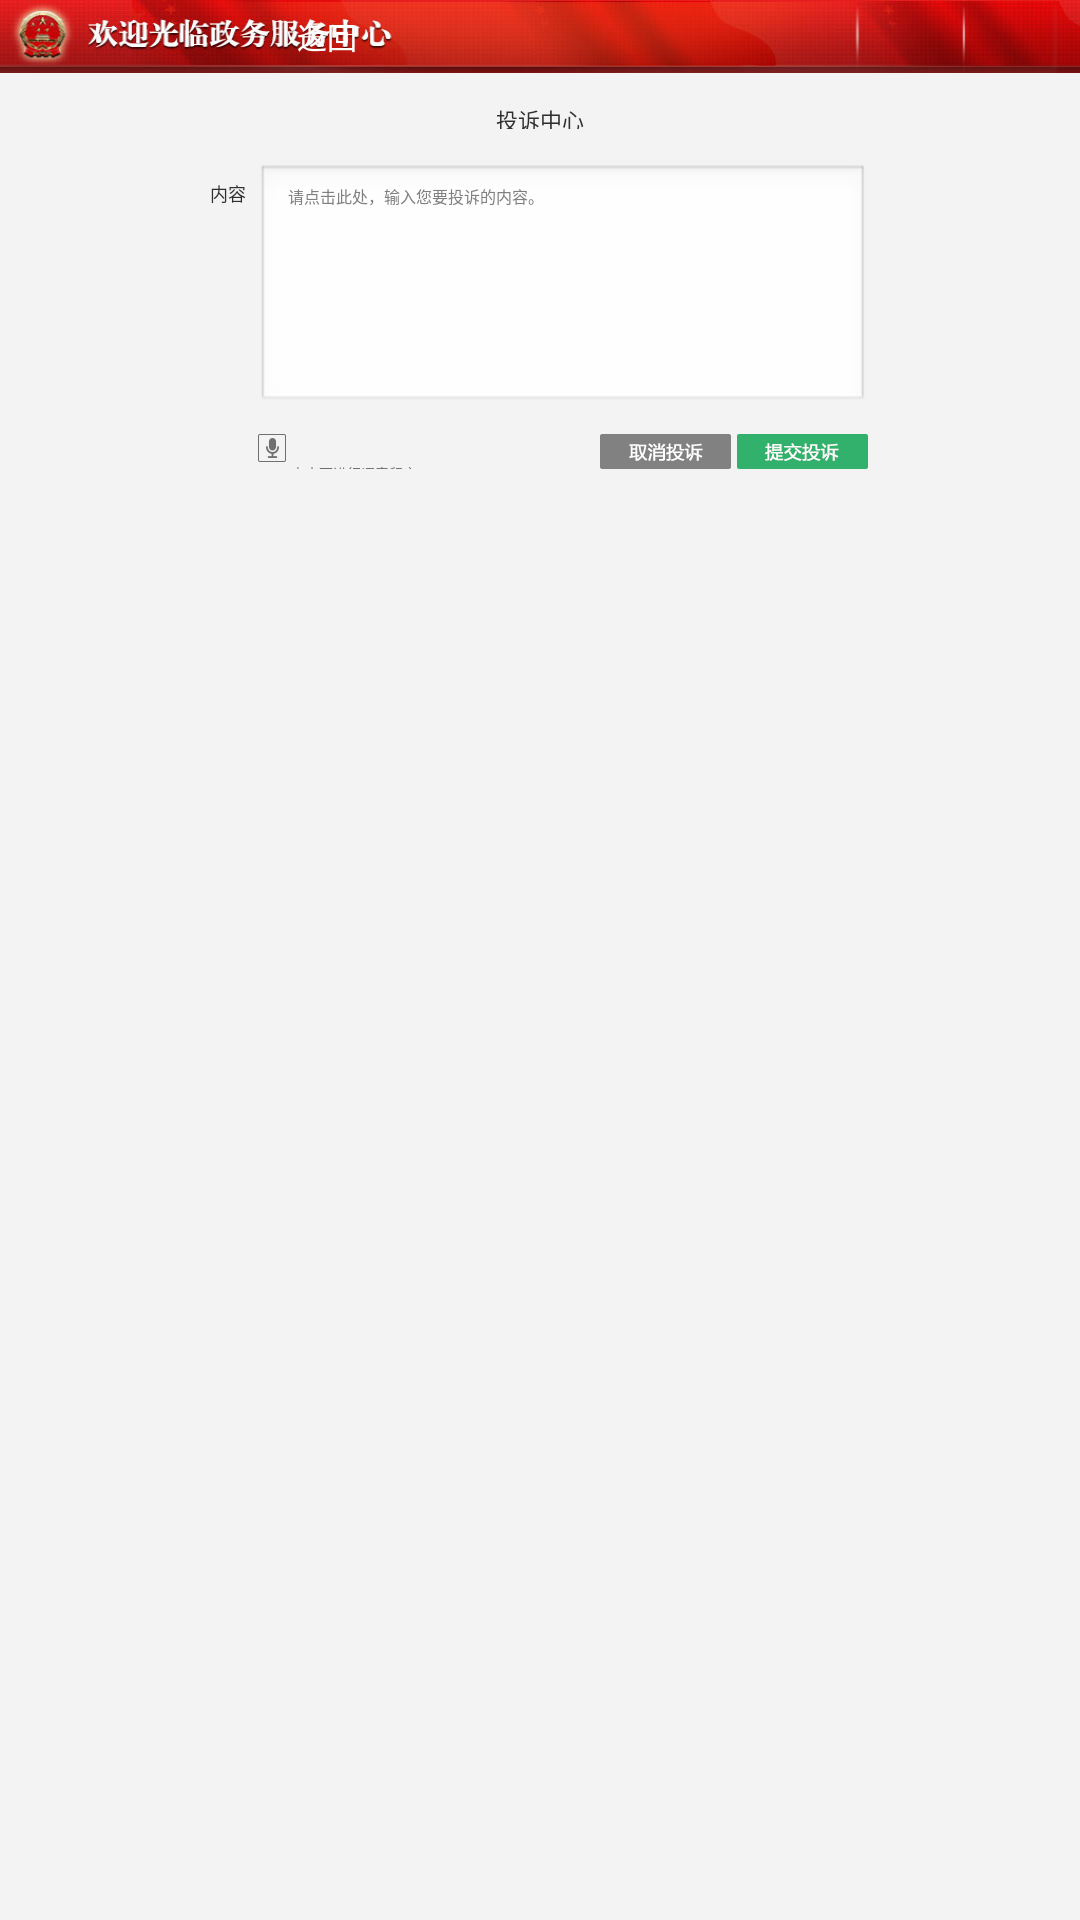

Where to tap for icons on this 1080 × 1920 app screen, as (x,y):
luyin nor: (272,448)
